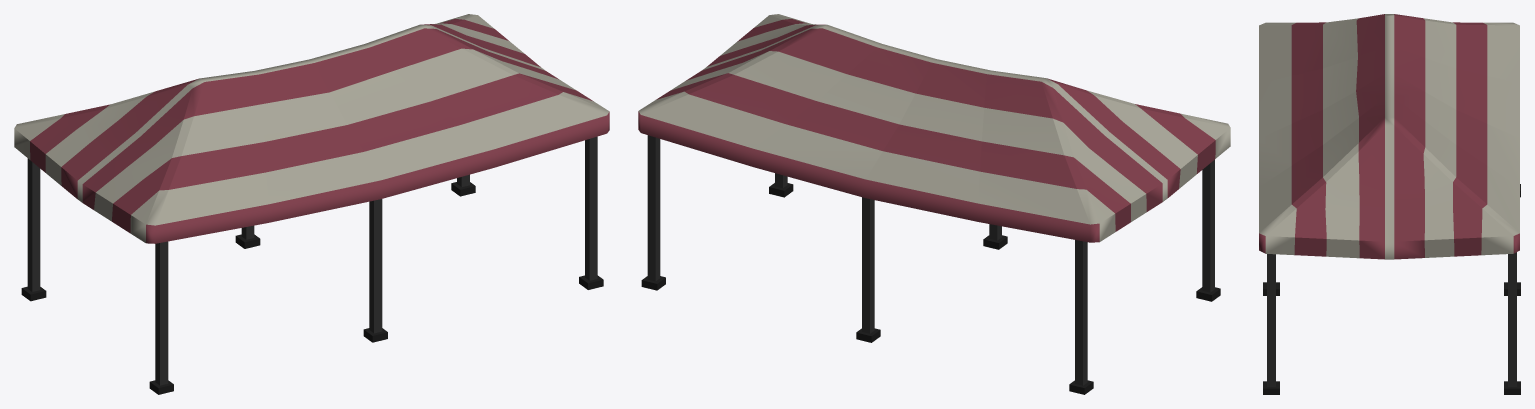
The picture shows the model from 3 angles, left to right: view 1: azimuth 30°, elevation 25°; view 2: azimuth 150°, elevation 25°; view 3: azimuth 270°, elevation 25°; orthographic projection. The views are drawn at different scales.
Visible parts, largest first — view 1: SM_Canopy:SM_Canopy1; view 2: SM_Canopy:SM_Canopy1; view 3: SM_Canopy:SM_Canopy1.
Boxes of the visible parts, box(x1,y1,x2,y2) form: SM_Canopy:SM_Canopy1: box(14, 14, 609, 394); SM_Canopy:SM_Canopy1: box(638, 14, 1230, 394); SM_Canopy:SM_Canopy1: box(1259, 14, 1520, 394).
Bounding box in the file's own units: 9.7 × 4.77 × 5.03.
